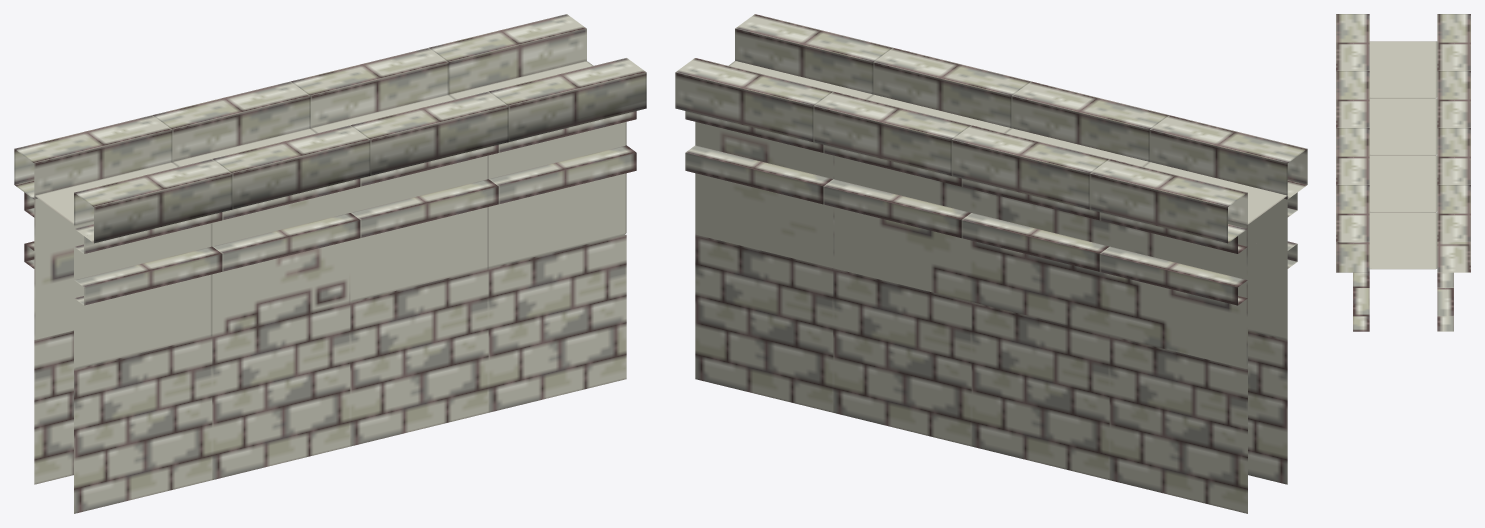
File: stone_wall_small_02.fbx
3 views of the same model, side by side, from view 1: azimuth 30°, elevation 25°; view 2: azimuth 150°, elevation 25°; view 3: azimuth 270°, elevation 25° (orthographic). The views are drawn at different scales.
Parts seen in each view (by area): view 1: stone_wall_small_02; view 2: stone_wall_small_02; view 3: stone_wall_small_02.
Part boxes in pixels (left/top/right/bottom): stone_wall_small_02: left=14, top=14, right=646, bottom=513; stone_wall_small_02: left=675, top=14, right=1307, bottom=513; stone_wall_small_02: left=1336, top=14, right=1470, bottom=331.
Size of the model in its own units: 400 by 222 by 100.
